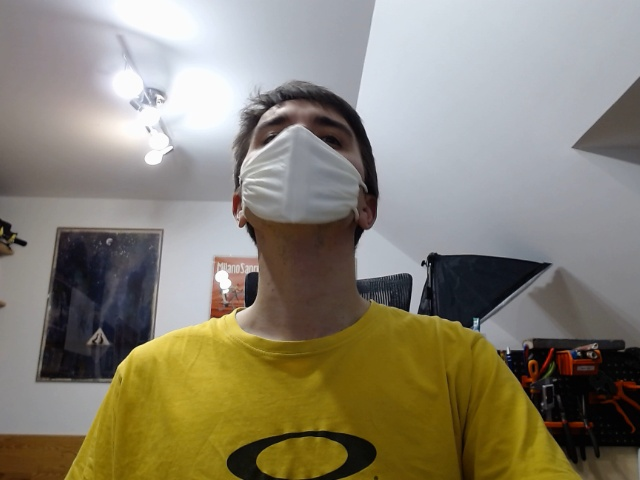CorrectMask: (229, 78, 382, 268)
